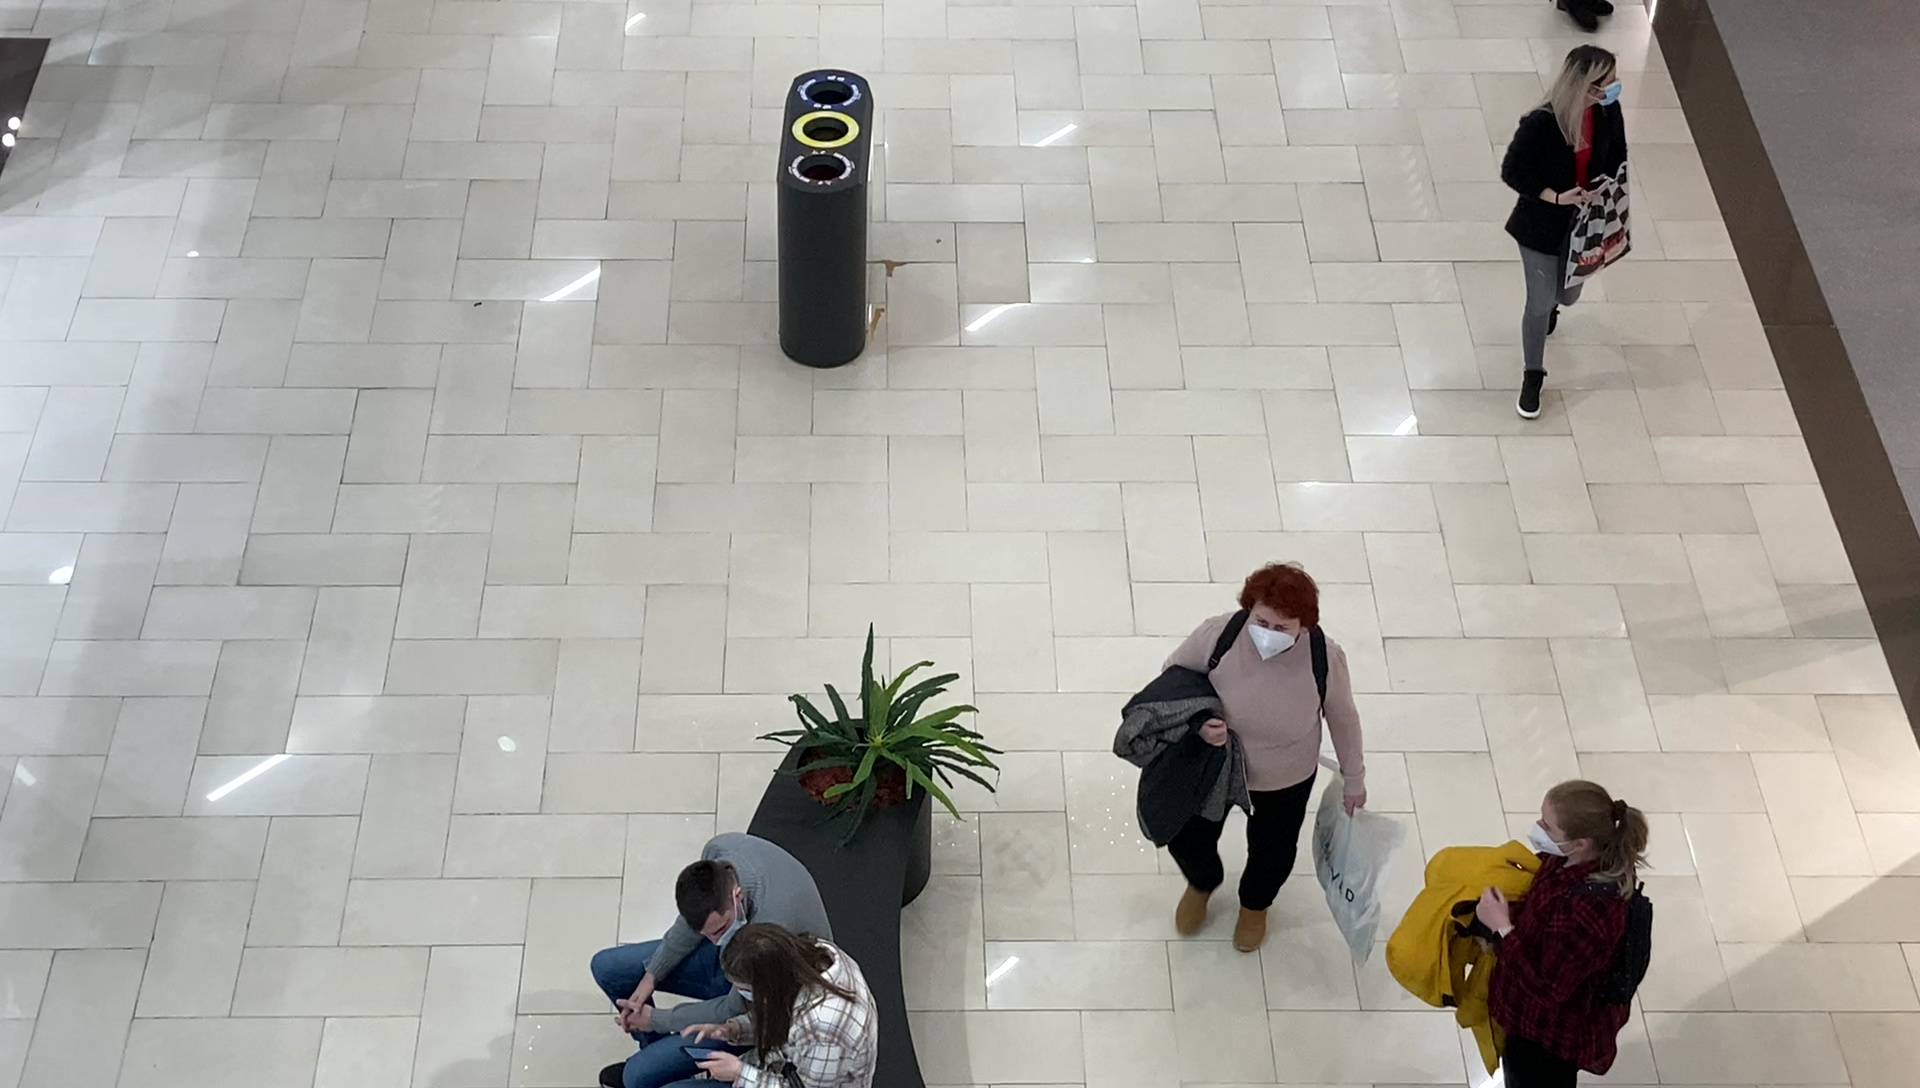person: (1163, 566, 1369, 956), (1475, 782, 1655, 1088), (1500, 43, 1632, 419)
